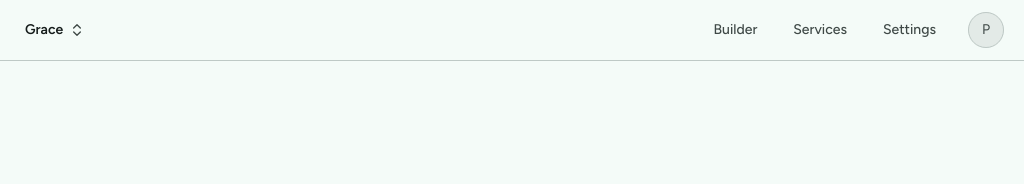
AppHeader › shows the user's name, email and role label in the account menu
The image size is (1024, 184).
Click the button named "Account menu". click: [986, 30]
box: [964,8,1008,52]
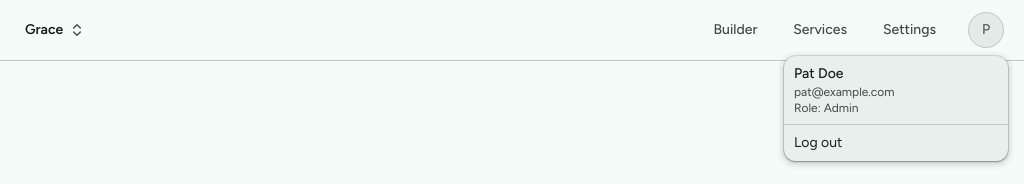
Check: the text "Pat Doe" is shown, box [794,65,844,82]
Check: the text "pat@example.com" is shown, box [794,85,894,99]
Check: the text "Role: Admin" is shown, box [794,101,858,115]
